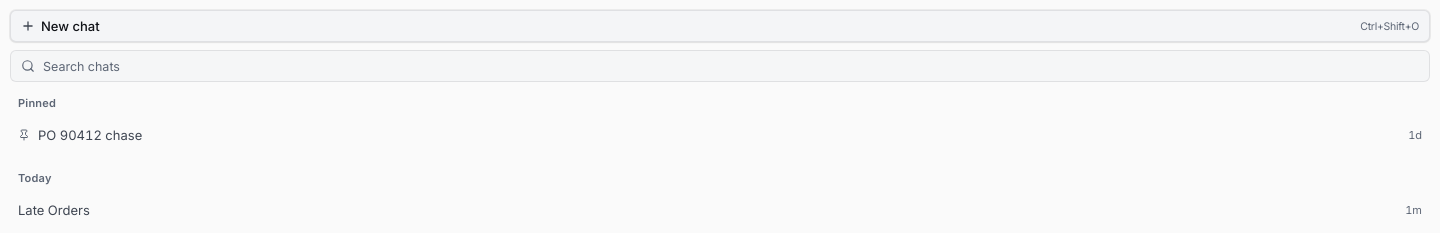
Test case: Ask's chats list › searches names and questions on the server, and says when nothing matches
The image size is (1440, 233).
Expected: the text "PO 90412 chase" is shown, [38,127,142,143]
In the field labelled "Search chats": (731, 66) [43,54,1419,78], type "croda"
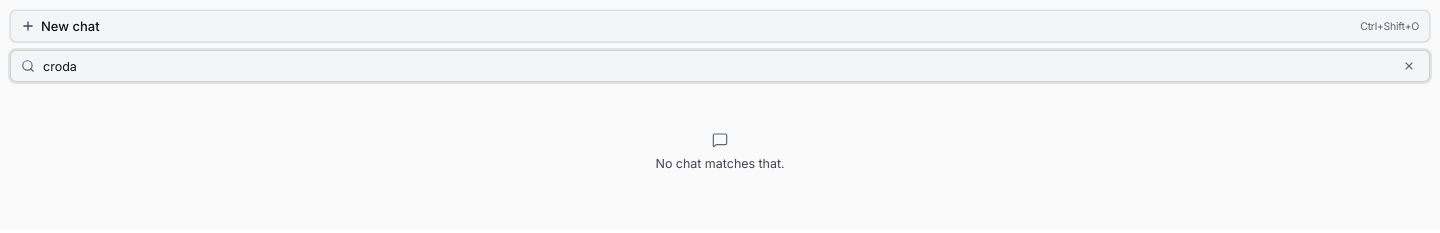
Expected: the text "No chat matches that." is shown, [656,154,784,174]
